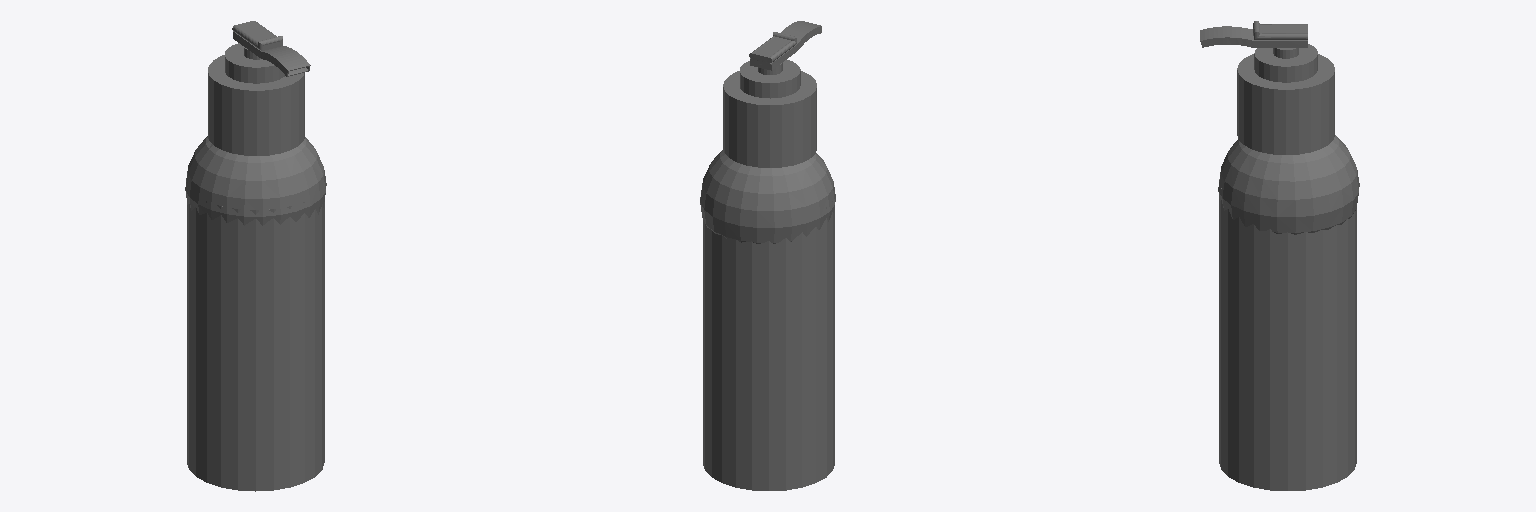
The robot description file, URDF, robot "object":
<?xml version="1.0"?>
<robot name="object">
  <link name="object">
    <visual>
      <origin xyz="0 0 0"/>
      <geometry>
        <mesh
          filename="../../mesh/oakink_virtual/lotion_pump_s107.stl" />
      </geometry>
      <material name="mat">
        <color rgba="0.5 0.5 0.5 1"/>
      </material>
    </visual>

    <collision>
      <origin xyz="0 0 0"/>
      <geometry>
        <mesh
          filename="../../mesh/oakink_virtual/lotion_pump_s107.stl" />
      </geometry>
    </collision>
  </link>
</robot>

--- What the picture shows (computed from the rendered views, not written in the file) ---
Views: 3 orthographic renders of the robot side by side, from view 1: azimuth 30°, elevation 25°; view 2: azimuth 150°, elevation 25°; view 3: azimuth 270°, elevation 25°.
Robot: object — 1 links, 0 joints (none); root link object; default pose: every joint at zero.
Visible links, largest first — view 1: object; view 2: object; view 3: object.
Boxes of the visible links, <box> form: object: <box>185,21,326,491</box>; object: <box>700,21,835,490</box>; object: <box>1200,21,1359,490</box>.
Bounding box of the posed robot: 0.0743 × 0.0838 × 0.2525 m (x, y, z).
Meshes: 1 distinct files referenced, 1 mesh visuals loaded (1 binary STL).